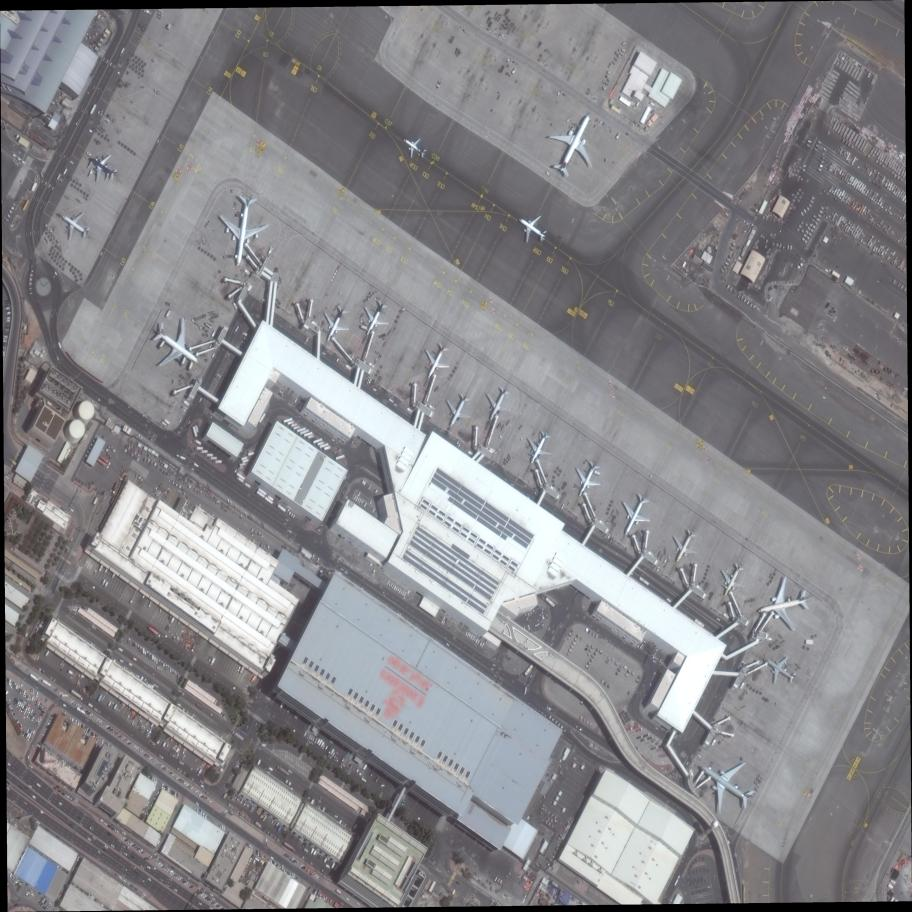large-vehicle: (235, 476, 252, 489), (148, 626, 162, 638), (70, 689, 84, 700), (283, 842, 296, 853), (231, 731, 245, 741), (638, 576, 650, 587), (277, 766, 290, 776), (523, 665, 534, 676), (694, 619, 705, 629), (42, 679, 52, 688), (89, 104, 97, 115), (76, 707, 86, 715), (312, 437, 323, 444), (92, 707, 101, 715), (177, 689, 186, 697), (30, 674, 39, 682), (192, 439, 202, 446), (283, 417, 293, 424), (299, 429, 310, 435), (97, 693, 104, 702), (55, 174, 62, 183), (254, 821, 263, 828), (192, 427, 198, 437), (319, 443, 329, 449), (303, 431, 313, 437), (296, 427, 306, 433), (144, 9, 152, 16), (209, 658, 216, 666), (196, 703, 204, 710), (162, 418, 170, 425), (242, 332, 250, 339), (739, 682, 746, 690), (287, 420, 296, 426), (335, 455, 345, 460), (239, 666, 245, 674), (93, 497, 99, 505), (405, 407, 413, 413), (222, 792, 228, 800), (98, 564, 104, 572), (199, 450, 208, 455), (191, 644, 196, 653), (203, 453, 214, 457), (138, 725, 144, 732), (87, 703, 94, 709), (117, 647, 124, 653), (35, 782, 42, 788), (318, 739, 324, 746), (287, 769, 294, 775), (335, 889, 342, 895), (331, 862, 337, 869), (665, 598, 672, 604), (468, 450, 475, 456), (345, 364, 352, 370), (111, 572, 117, 579), (213, 460, 223, 464), (323, 446, 331, 451), (317, 441, 325, 446), (293, 425, 301, 430), (290, 423, 298, 428), (262, 816, 268, 822), (113, 703, 118, 710), (141, 726, 146, 733), (162, 741, 167, 748), (101, 579, 106, 586), (328, 747, 333, 754), (330, 748, 335, 755), (314, 737, 319, 744), (316, 738, 321, 745), (208, 655, 213, 662), (323, 857, 328, 864), (211, 353, 216, 360), (257, 759, 262, 766), (195, 447, 203, 451), (307, 435, 315, 439), (137, 720, 142, 726), (137, 715, 142, 721), (110, 702, 115, 708), (107, 701, 112, 707), (178, 761, 184, 766), (158, 755, 164, 760), (131, 657, 137, 662), (86, 152, 92, 157), (333, 758, 339, 763), (320, 742, 325, 748), (319, 854, 324, 860), (303, 848, 309, 853), (324, 864, 330, 869), (388, 398, 394, 403), (156, 667, 162, 672), (153, 684, 159, 689), (145, 729, 149, 736), (13, 683, 17, 690), (16, 686, 20, 693), (317, 852, 321, 859), (310, 848, 314, 855), (104, 567, 108, 574), (8, 679, 12, 686), (208, 457, 217, 460), (68, 670, 73, 675), (92, 570, 97, 575), (128, 662, 133, 667), (104, 582, 108, 588), (375, 777, 379, 783), (260, 743, 266, 747), (315, 851, 319, 857), (313, 850, 317, 856), (524, 687, 527, 695), (61, 695, 69, 698), (142, 648, 145, 655), (128, 638, 131, 645), (131, 721, 135, 726), (126, 715, 130, 720), (268, 767, 273, 771), (77, 674, 80, 680), (151, 654, 154, 660), (146, 652, 149, 658), (15, 684, 18, 690), (173, 670, 176, 676), (171, 669, 174, 675), (381, 784, 385, 788), (325, 745, 328, 750), (137, 645, 139, 651), (149, 653, 151, 659), (140, 647, 142, 653), (135, 643, 137, 649), (156, 659, 158, 665), (154, 656, 156, 662), (158, 659, 160, 665), (167, 665, 169, 671), (165, 665, 167, 670), (163, 663, 165, 668), (161, 662, 163, 667), (145, 650, 146, 656), (170, 667, 171, 672)
plane: (531, 99, 618, 190), (681, 740, 771, 827), (138, 306, 215, 385), (210, 190, 275, 275), (753, 572, 814, 637), (610, 487, 662, 546), (507, 203, 558, 253), (753, 645, 805, 694), (564, 455, 611, 507), (50, 200, 98, 249), (313, 300, 359, 351), (78, 144, 127, 191), (353, 294, 398, 345), (436, 387, 481, 437), (516, 424, 562, 472), (661, 523, 706, 572), (476, 381, 521, 429), (414, 338, 459, 386), (712, 558, 754, 605), (395, 130, 433, 165)
small-vehicle: (25, 733, 31, 739), (560, 503, 565, 510), (106, 648, 112, 653), (27, 784, 33, 789), (57, 801, 63, 806), (353, 495, 358, 501), (356, 497, 361, 503), (330, 451, 337, 455), (19, 699, 24, 704), (69, 538, 74, 543), (122, 831, 127, 836), (114, 829, 119, 834), (55, 835, 60, 840), (69, 797, 74, 802), (28, 764, 33, 769), (65, 794, 70, 799), (32, 795, 37, 800), (23, 801, 28, 806), (39, 810, 44, 815), (131, 865, 136, 870), (118, 875, 123, 880), (129, 884, 134, 889), (91, 836, 96, 841), (103, 845, 108, 850), (147, 877, 152, 882), (152, 866, 157, 871), (217, 373, 222, 378), (476, 640, 481, 645), (598, 121, 603, 126), (566, 118, 571, 123), (199, 780, 204, 785), (153, 795, 158, 800), (22, 691, 26, 697), (138, 849, 144, 853), (89, 827, 95, 831), (316, 557, 320, 563), (403, 592, 407, 598), (244, 511, 248, 517), (822, 396, 828, 400), (657, 566, 661, 572), (366, 379, 370, 385), (355, 496, 359, 502), (181, 880, 187, 884), (246, 878, 250, 884), (237, 666, 241, 672), (240, 798, 244, 804), (195, 801, 199, 807), (547, 707, 552, 711), (25, 706, 29, 711), (28, 709, 32, 714), (28, 714, 32, 719), (95, 739, 99, 744), (31, 716, 35, 721), (6, 787, 11, 791), (35, 701, 39, 706), (24, 693, 28, 698), (36, 744, 41, 748), (37, 717, 41, 722), (17, 724, 22, 728), (24, 733, 28, 738), (117, 735, 122, 739), (36, 656, 40, 661), (127, 742, 132, 746), (84, 718, 89, 722), (145, 755, 150, 759), (77, 704, 81, 709), (74, 703, 79, 707), (72, 701, 77, 705), (67, 698, 72, 702), (58, 692, 63, 696), (53, 688, 58, 692), (77, 816, 82, 820), (26, 891, 31, 895), (5, 475, 9, 480), (9, 873, 13, 878), (13, 878, 17, 883), (56, 356, 60, 361), (53, 791, 58, 795), (69, 161, 74, 165), (107, 824, 111, 829), (107, 832, 112, 836), (110, 827, 115, 831), (127, 840, 132, 844), (45, 828, 50, 832), (67, 818, 72, 822), (105, 867, 110, 871), (36, 821, 41, 825), (140, 878, 145, 882), (123, 867, 128, 871), (97, 850, 102, 854), (122, 879, 127, 883), (87, 837, 91, 842), (159, 878, 164, 882), (140, 865, 145, 869), (154, 851, 158, 856), (157, 840, 161, 845), (308, 735, 312, 740), (340, 763, 345, 767), (322, 744, 326, 749), (388, 582, 392, 587), (386, 580, 390, 585), (390, 583, 394, 588), (344, 571, 349, 575), (391, 584, 395, 589), (398, 589, 402, 594), (393, 586, 397, 591), (527, 625, 531, 630), (481, 643, 485, 648), (479, 642, 483, 647), (475, 639, 479, 644), (473, 637, 477, 642), (442, 620, 446, 625), (607, 534, 611, 539), (363, 481, 367, 486), (322, 352, 327, 356), (368, 379, 372, 384), (393, 404, 398, 408), (374, 490, 379, 494), (368, 485, 372, 490), (357, 492, 361, 497), (457, 443, 461, 448), (215, 903, 220, 907), (203, 894, 208, 898), (198, 902, 203, 906), (173, 888, 178, 892), (173, 873, 178, 877), (169, 870, 174, 874), (146, 733, 150, 738), (118, 707, 122, 712), (149, 728, 153, 733), (198, 793, 203, 797), (156, 791, 160, 796), (203, 796, 208, 800), (339, 901, 344, 905), (314, 889, 318, 894), (307, 886, 311, 891), (87, 729, 91, 733), (7, 705, 11, 709), (22, 732, 26, 736), (19, 727, 23, 731), (20, 731, 24, 735), (26, 729, 30, 733), (112, 730, 116, 734), (109, 728, 113, 732), (84, 710, 88, 714), (178, 419, 182, 423), (182, 409, 186, 413), (42, 899, 46, 903), (143, 413, 147, 417), (16, 889, 20, 893), (31, 893, 35, 897), (44, 900, 48, 904), (42, 906, 46, 910), (48, 902, 52, 906), (184, 406, 188, 410), (110, 823, 114, 827), (117, 839, 121, 843), (104, 822, 108, 826), (56, 785, 60, 789), (53, 787, 57, 791), (61, 792, 65, 796), (69, 824, 73, 828), (161, 865, 165, 869), (159, 864, 163, 868), (126, 881, 130, 885), (134, 887, 138, 891), (142, 893, 146, 897), (134, 871, 138, 875), (124, 853, 128, 857), (111, 844, 115, 848), (155, 860, 159, 864), (303, 732, 307, 736), (288, 530, 292, 534), (363, 503, 367, 507), (470, 635, 474, 639), (446, 643, 450, 647), (445, 621, 449, 625), (360, 500, 364, 504), (442, 616, 446, 620), (456, 441, 460, 445), (171, 872, 175, 876), (115, 708, 119, 712), (185, 783, 189, 787), (189, 786, 193, 790), (150, 758, 154, 762), (236, 765, 240, 769), (146, 802, 150, 806), (171, 773, 175, 777), (223, 809, 227, 813), (283, 853, 287, 857), (299, 864, 303, 868), (294, 861, 298, 865), (288, 856, 292, 860), (285, 854, 289, 858), (208, 800, 212, 804), (356, 902, 360, 906), (18, 707, 21, 712), (107, 743, 110, 748), (27, 695, 30, 700), (29, 696, 32, 701), (31, 697, 34, 702), (26, 693, 29, 698), (120, 737, 125, 740), (139, 750, 144, 753), (134, 747, 139, 750), (86, 712, 91, 715), (26, 669, 31, 672), (75, 607, 78, 612), (73, 606, 76, 611), (199, 398, 202, 403), (16, 879, 19, 884), (12, 876, 15, 881), (99, 819, 104, 822), (124, 839, 129, 842), (129, 843, 134, 846), (131, 844, 136, 847), (136, 848, 141, 851), (146, 866, 151, 869), (332, 752, 335, 757), (312, 737, 315, 742), (310, 736, 313, 741), (312, 554, 315, 559), (402, 591, 405, 596), (400, 590, 403, 595), (397, 587, 400, 592), (372, 508, 375, 513), (472, 636, 475, 641), (362, 480, 365, 485), (359, 499, 362, 504), (205, 896, 210, 899), (257, 851, 260, 856), (279, 865, 282, 870), (180, 879, 185, 882), (177, 877, 182, 880), (166, 869, 171, 872), (135, 675, 140, 678), (194, 790, 199, 793), (244, 801, 247, 806), (235, 794, 238, 799), (202, 812, 205, 817), (345, 898, 350, 901), (155, 779, 158, 784), (153, 777, 156, 782), (163, 784, 166, 789), (165, 786, 168, 791), (172, 791, 175, 796), (23, 702, 27, 705), (49, 720, 53, 723), (22, 705, 25, 709), (21, 703, 24, 707), (25, 712, 28, 716), (26, 714, 29, 718), (30, 716, 33, 720), (50, 717, 54, 720), (80, 724, 83, 728), (85, 731, 88, 735), (86, 727, 89, 731), (64, 710, 67, 714), (69, 718, 72, 722), (71, 719, 74, 723), (75, 720, 78, 724), (44, 728, 48, 731), (37, 702, 40, 706), (34, 700, 37, 704), (39, 703, 42, 707), (40, 705, 43, 709), (43, 707, 47, 710), (30, 689, 33, 693), (36, 720, 40, 723), (35, 747, 39, 750), (38, 742, 42, 745), (39, 714, 43, 717), (13, 717, 17, 720), (89, 714, 93, 717), (83, 720, 86, 724), (137, 749, 141, 752), (133, 745, 137, 748), (126, 740, 130, 743), (107, 727, 111, 730), (105, 725, 109, 728), (99, 720, 103, 723), (96, 718, 100, 721), (79, 707, 83, 710), (70, 700, 74, 703), (38, 677, 42, 680), (14, 698, 17, 702), (40, 903, 43, 907), (38, 901, 41, 905), (46, 906, 50, 909), (77, 857, 80, 861), (59, 893, 62, 897), (48, 904, 51, 908), (4, 335, 8, 338), (6, 319, 10, 322), (6, 307, 10, 310), (15, 883, 19, 886), (121, 837, 125, 840), (134, 846, 138, 849), (20, 881, 24, 884), (57, 790, 61, 793), (114, 873, 118, 876), (157, 862, 161, 865), (141, 851, 145, 854), (149, 856, 153, 859), (227, 499, 230, 503), (335, 815, 339, 818), (291, 514, 294, 518), (292, 515, 295, 519), (340, 568, 344, 571), (395, 587, 398, 591), (370, 500, 373, 504), (469, 634, 472, 638), (467, 632, 470, 636), (465, 632, 468, 636), (441, 620, 444, 624), (210, 894, 214, 897), (219, 906, 223, 909), (211, 901, 215, 904), (214, 902, 218, 905), (209, 900, 213, 903), (207, 898, 211, 901), (200, 893, 204, 896), (189, 885, 193, 888), (187, 884, 191, 887), (289, 873, 292, 877), (185, 882, 189, 885), (32, 711, 35, 715), (27, 707, 30, 711), (164, 867, 168, 870), (176, 875, 179, 879), (42, 710, 46, 713), (146, 721, 149, 725), (183, 782, 187, 785), (160, 765, 164, 768), (162, 767, 166, 770), (164, 768, 168, 771), (175, 777, 179, 780), (178, 779, 182, 782), (180, 780, 184, 783), (152, 760, 156, 763), (187, 785, 191, 788), (196, 792, 200, 795), (201, 795, 204, 799), (157, 763, 161, 766), (148, 757, 152, 760), (153, 787, 156, 791), (206, 798, 210, 801), (313, 874, 317, 877), (290, 858, 294, 861), (316, 876, 320, 879), (162, 783, 164, 789), (167, 787, 169, 793), (47, 723, 52, 725), (77, 721, 79, 726), (95, 734, 97, 739), (46, 698, 48, 703), (36, 692, 38, 697), (6, 312, 11, 314), (230, 500, 232, 505), (235, 505, 237, 510), (247, 843, 249, 848), (249, 845, 251, 850), (251, 846, 253, 851), (256, 850, 258, 855), (262, 853, 264, 858), (287, 871, 289, 876), (278, 864, 280, 869), (223, 825, 225, 830), (266, 838, 268, 843), (199, 809, 201, 814), (197, 808, 199, 813), (201, 810, 203, 815), (205, 814, 207, 819), (152, 776, 154, 781), (175, 792, 177, 797), (19, 703, 22, 706), (23, 712, 26, 715), (115, 732, 118, 735), (124, 739, 127, 742), (144, 753, 147, 756), (82, 709, 85, 712), (17, 887, 20, 890), (72, 868, 75, 871), (18, 885, 21, 888), (212, 897, 215, 900), (169, 771, 172, 774), (79, 723, 81, 727), (45, 726, 49, 728), (102, 740, 104, 744), (93, 733, 95, 737), (33, 699, 35, 703), (21, 682, 23, 686), (3, 338, 7, 340), (5, 303, 9, 305), (7, 317, 11, 319), (5, 305, 9, 307), (5, 300, 9, 302), (293, 874, 295, 878), (264, 855, 266, 859), (272, 861, 274, 865), (274, 863, 276, 867), (283, 869, 285, 873), (16, 705, 18, 709), (219, 825, 221, 829), (97, 736, 99, 739), (42, 734, 45, 736), (103, 724, 106, 726), (19, 883, 22, 885), (33, 689, 34, 694), (292, 873, 293, 878), (222, 824, 223, 829), (171, 790, 172, 795), (177, 792, 178, 797), (524, 627, 525, 631), (286, 871, 287, 875), (43, 732, 46, 733), (269, 859, 270, 862)
